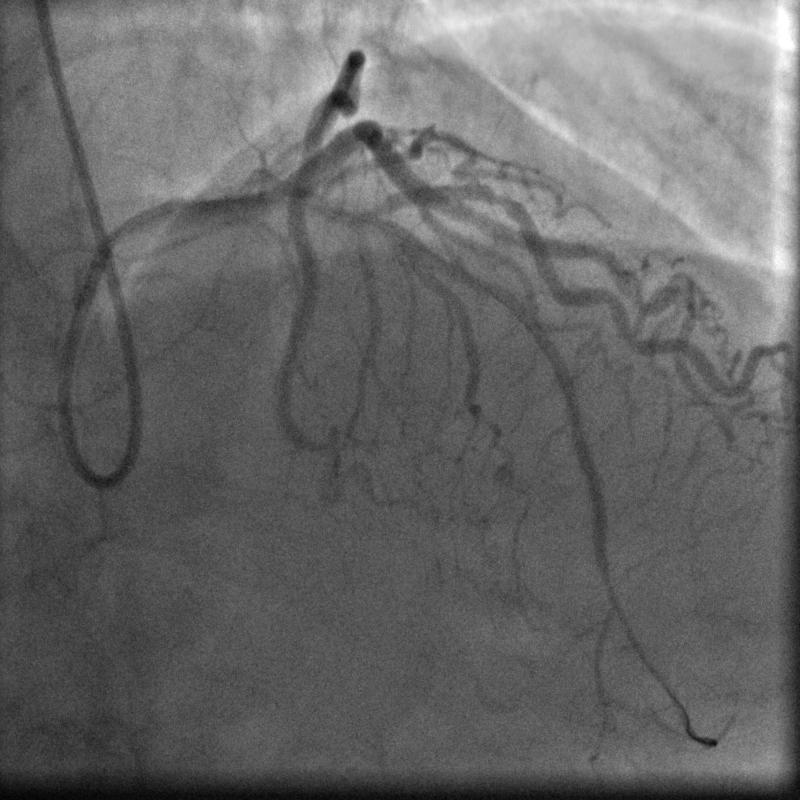Stenosis: (483, 180, 512, 206)
